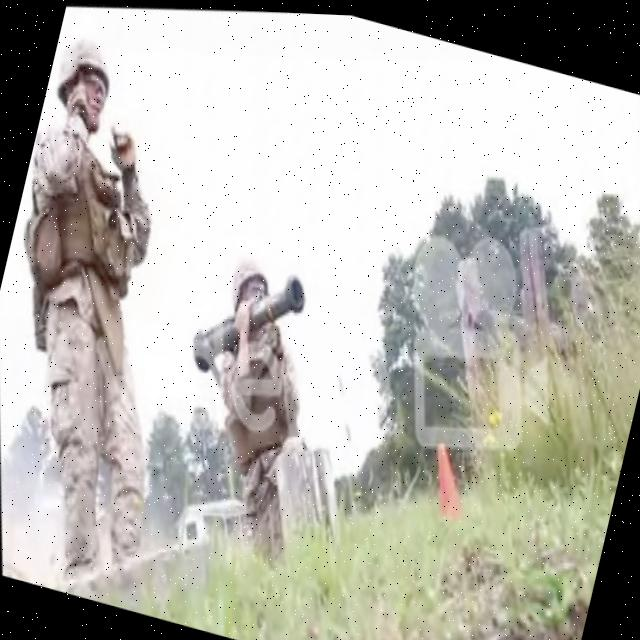rocket: (166, 239, 326, 403)
